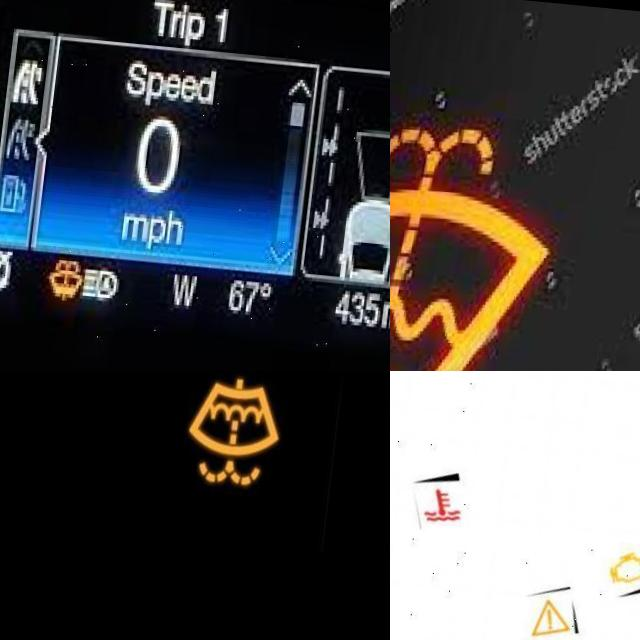Washer Fluid: (390, 106, 566, 371), (54, 252, 97, 300)
